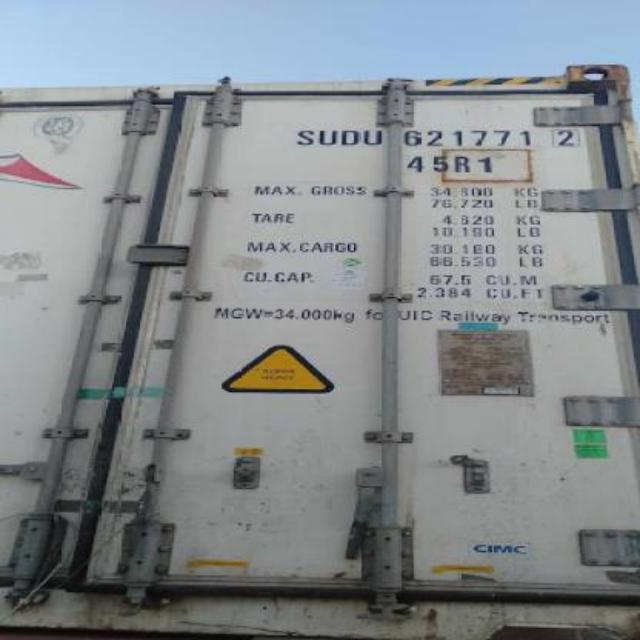1: (448, 130, 466, 146), (520, 129, 536, 147)
2: (552, 130, 580, 146), (426, 129, 446, 147)
6: (402, 130, 424, 146)
7: (490, 130, 514, 146), (470, 130, 488, 146)
D: (340, 128, 360, 148)
S: (294, 129, 316, 147)
U: (362, 129, 386, 147), (318, 129, 340, 145)
